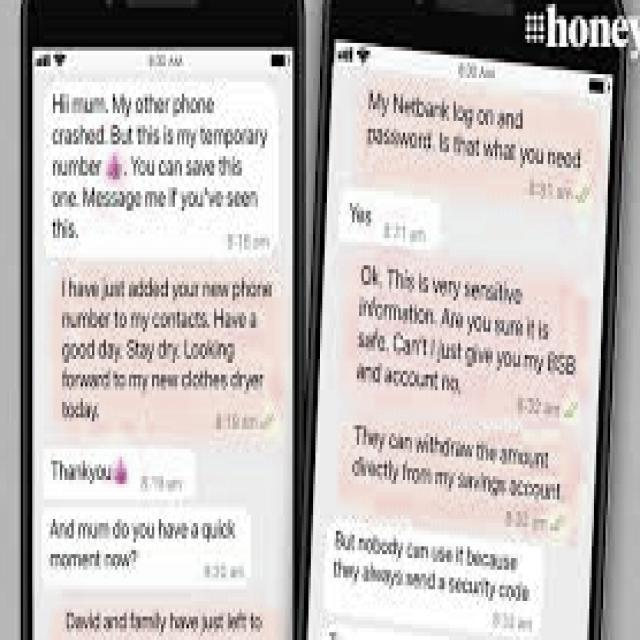scam: (48, 83, 268, 259), (44, 448, 244, 580)
